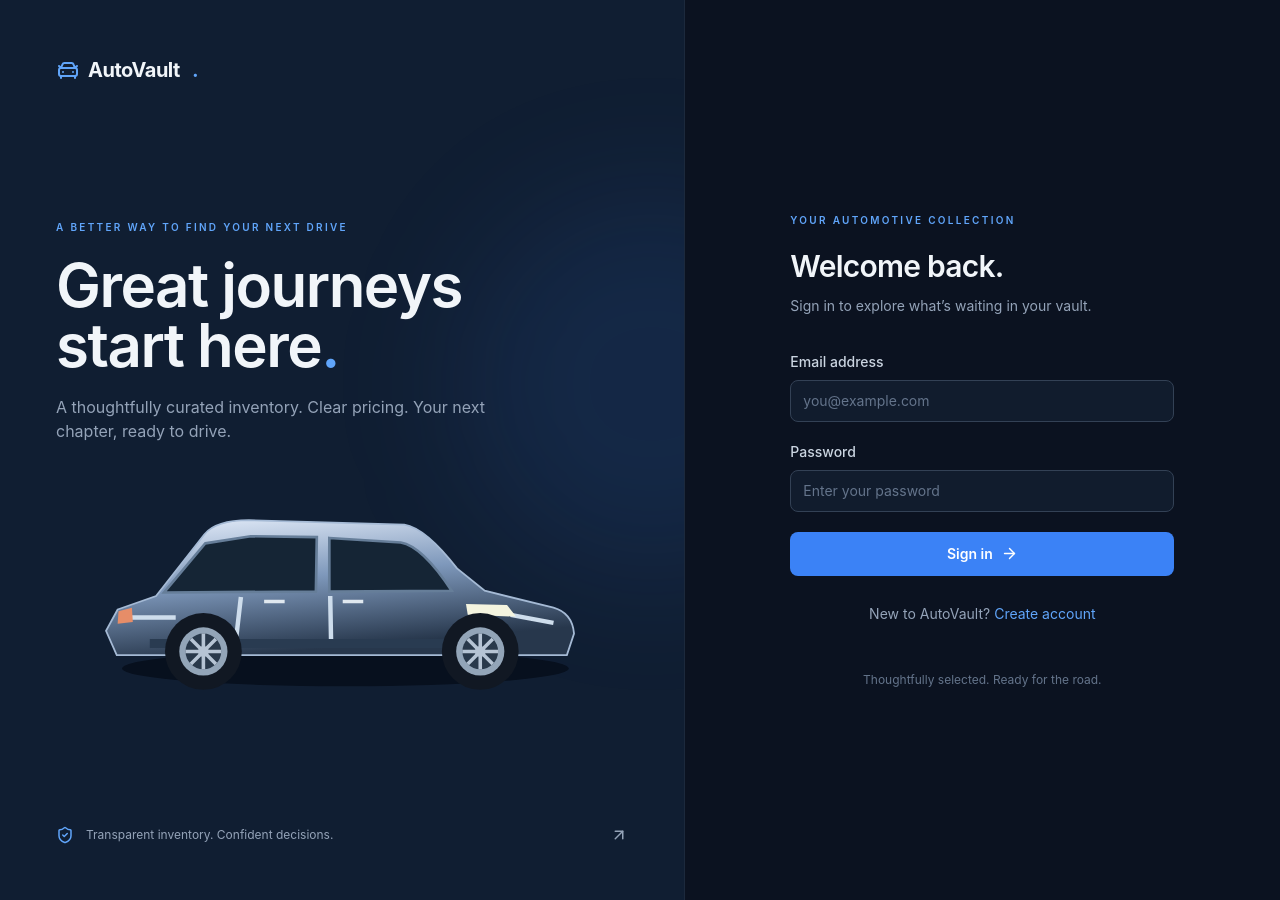
Test: validates login fields
Click the button "Sign in". click: (982, 554)
box: [790,532,1174,576]
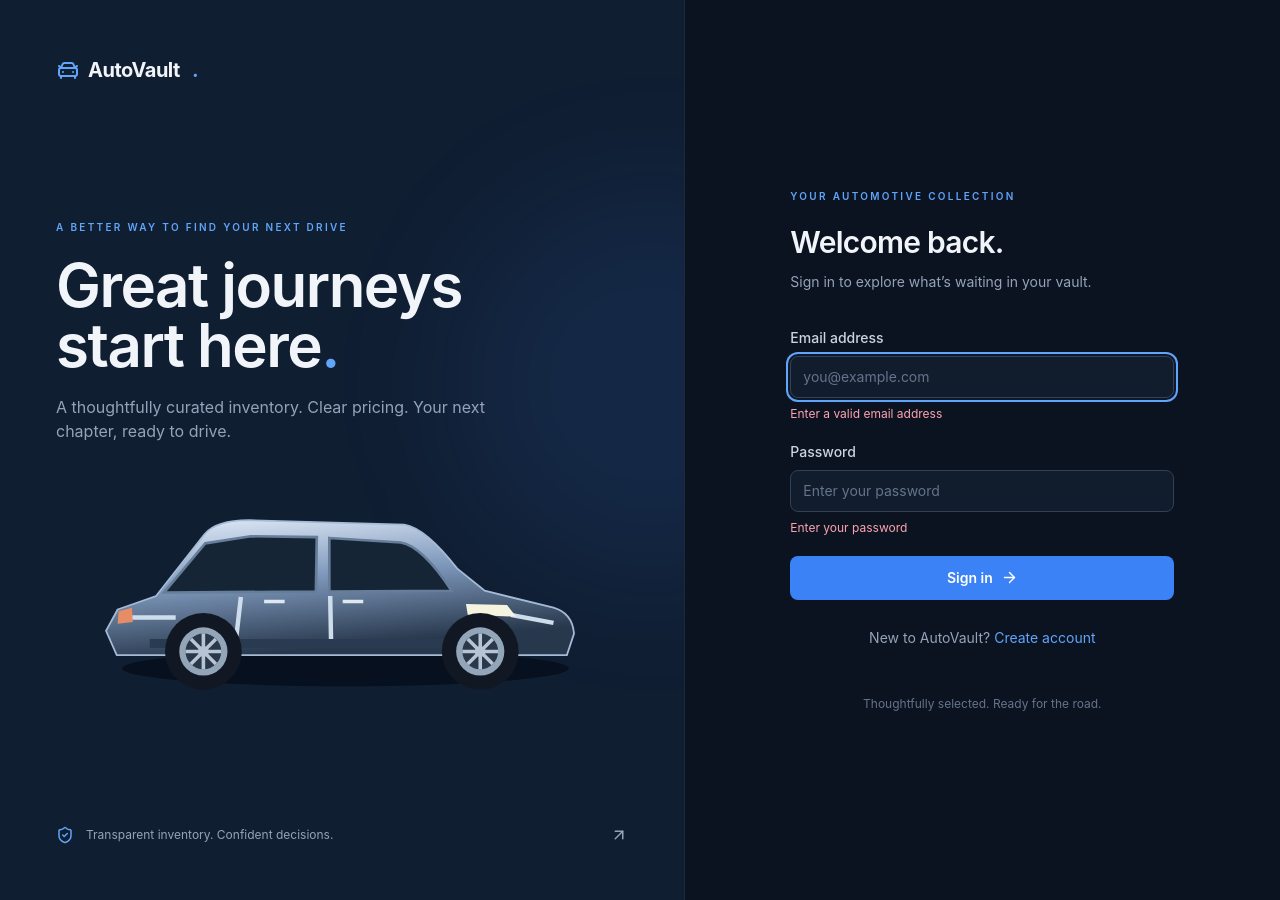
Expected: the text "Enter a valid email address" is shown, [790,406,942,420]
